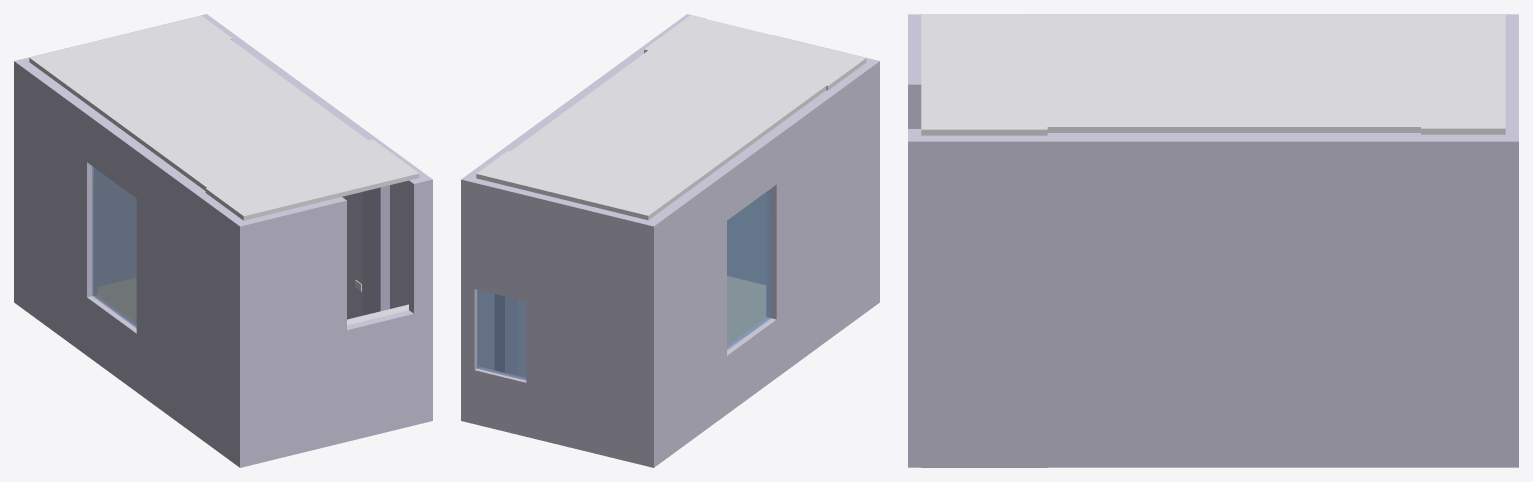
Rendered from phong_thuc_te.obj.
3 views of the same model, side by side, from view 1: azimuth 30°, elevation 25°; view 2: azimuth 150°, elevation 25°; view 3: azimuth 270°, elevation 25° (orthographic). The views are drawn at different scales.
Parts seen in each view (by area): view 1: Tuong_ben_dieu_hoa, Tuong_dau_cua, Tran, Tuong_ben_o_cua, Cua_so_ben_100x150_bau_65_vi_tri_uoc_luong, Tuong_dau_cua_so, Cot_dau_cua_ben_o_cua_11x35x6, San_nha; view 2: Tuong_ben_dieu_hoa, Tuong_dau_cua_so, Tran, Cua_so_ben_100x150_bau_65_vi_tri_uoc_luong, Tuong_ben_o_cua, Cua_so_dau_60x90_bau_60, Buc_duoi_o_cua_cao124_sau12_rong_uoc_luong, San_nha, Cot_canh_dau_cua_so_ben_phai_12x26x9, Tuong_dau_cua; view 3: Tuong_ben_o_cua, Tran, Tuong_dau_cua, Tuong_dau_cua_so.
Boxes of the visible parts, bbox=[...] form: Tuong_ben_dieu_hoa: bbox=[14, 59, 248, 466]; Tuong_dau_cua: bbox=[235, 176, 432, 467]; Tran: bbox=[29, 15, 419, 220]; Tuong_ben_o_cua: bbox=[201, 14, 432, 422]; Cua_so_ben_100x150_bau_65_vi_tri_uoc_luong: bbox=[92, 166, 136, 327]; Tuong_dau_cua_so: bbox=[14, 14, 211, 305]; Cot_dau_cua_ben_o_cua_11x35x6: bbox=[363, 185, 389, 315]; San_nha: bbox=[97, 278, 136, 322]; Tuong_ben_dieu_hoa: bbox=[643, 60, 879, 467]; Tuong_dau_cua_so: bbox=[461, 176, 658, 467]; Tran: bbox=[476, 15, 866, 220]; Cua_so_ben_100x150_bau_65_vi_tri_uoc_luong: bbox=[727, 189, 770, 350]; Tuong_ben_o_cua: bbox=[461, 14, 692, 423]; Cua_so_dau_60x90_bau_60: bbox=[477, 290, 526, 380]; Buc_duoi_o_cua_cao124_sau12_rong_uoc_luong: bbox=[727, 192, 765, 284]; San_nha: bbox=[727, 276, 765, 345]; Cot_canh_dau_cua_so_ben_phai_12x26x9: bbox=[495, 294, 517, 375]; Tuong_dau_cua: bbox=[683, 14, 879, 303]; Tuong_ben_o_cua: bbox=[908, 133, 1518, 467]; Tran: bbox=[921, 14, 1505, 135]; Tuong_dau_cua: bbox=[908, 14, 921, 467]; Tuong_dau_cua_so: bbox=[1505, 14, 1518, 467].
Size of the model in its own units: 2.24 by 2.78 by 4.55.
